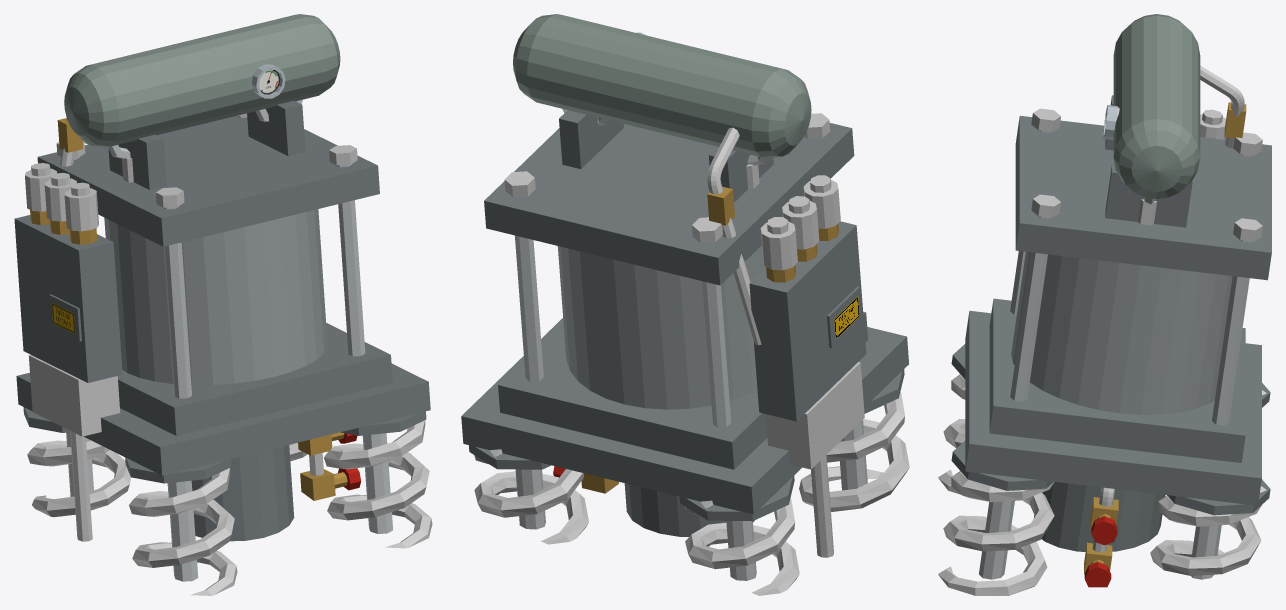
Rendered from cell_2.obj.
The picture shows the model from 3 angles, left to right: view 1: azimuth 30°, elevation 25°; view 2: azimuth 150°, elevation 25°; view 3: azimuth 270°, elevation 25°; orthographic projection. The views are drawn at different scales.
Bounding box in the file's own units: 0.6925 × 0.9949 × 0.6563.
